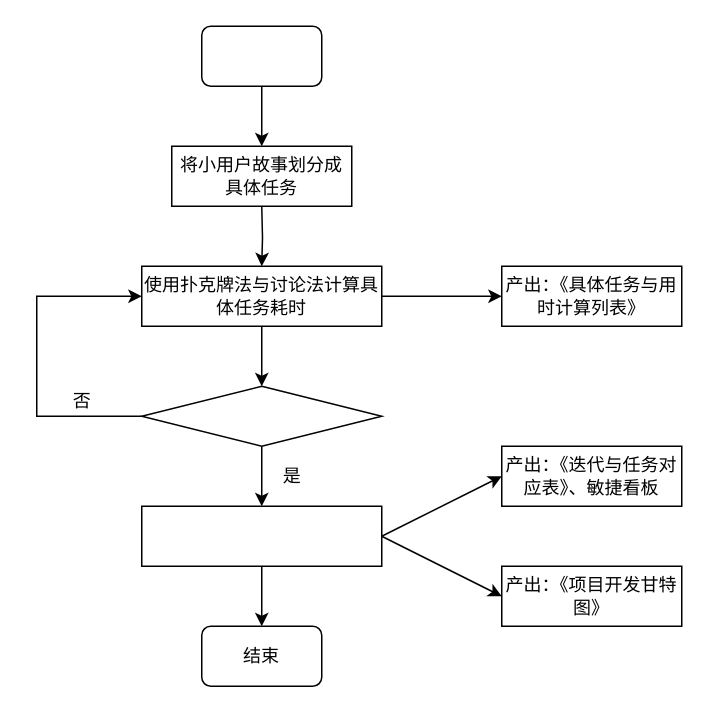
Image size: 708x713. Some labels were removed from this diagram. The centre of each missing label's shape, as x and y in pixels:
全开发组对用时达成一致: (x=261, y=415)
将用户故事分入多次迭代: (x=261, y=535)
开始: (x=261, y=55)
